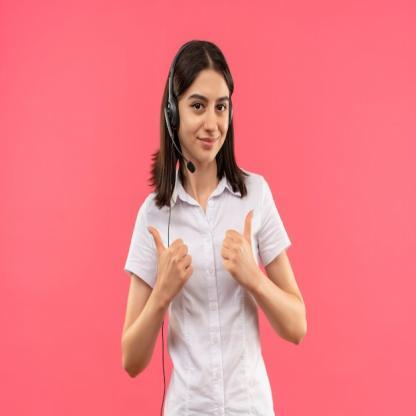thumb_up: (146, 224, 195, 300), (218, 205, 260, 289)
